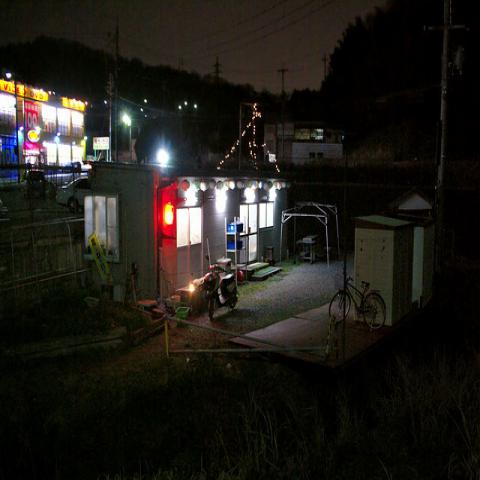car: (56, 176, 90, 212), (61, 161, 82, 174)
motorcycle: (202, 253, 238, 319)
